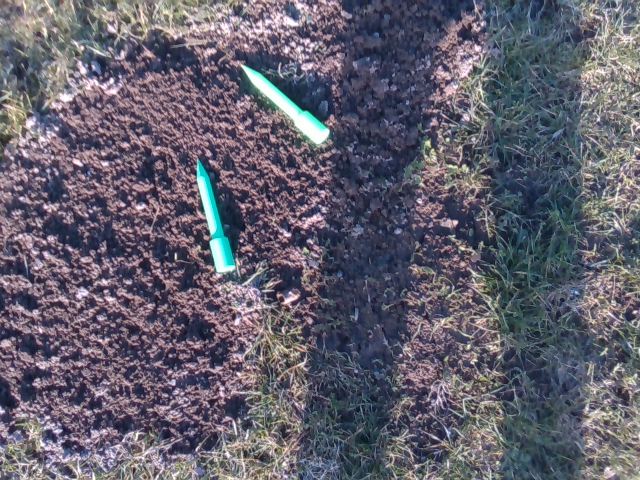Probe: (238, 58, 335, 153), (193, 154, 237, 275)
